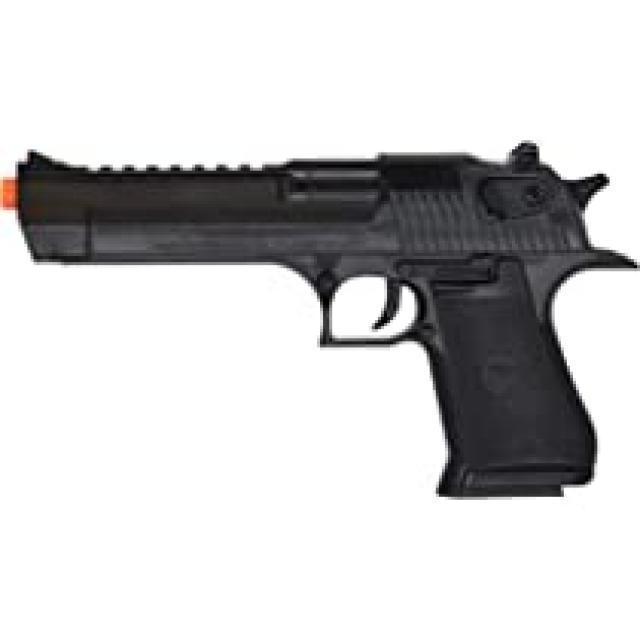Pistol: (0, 137, 640, 549)
